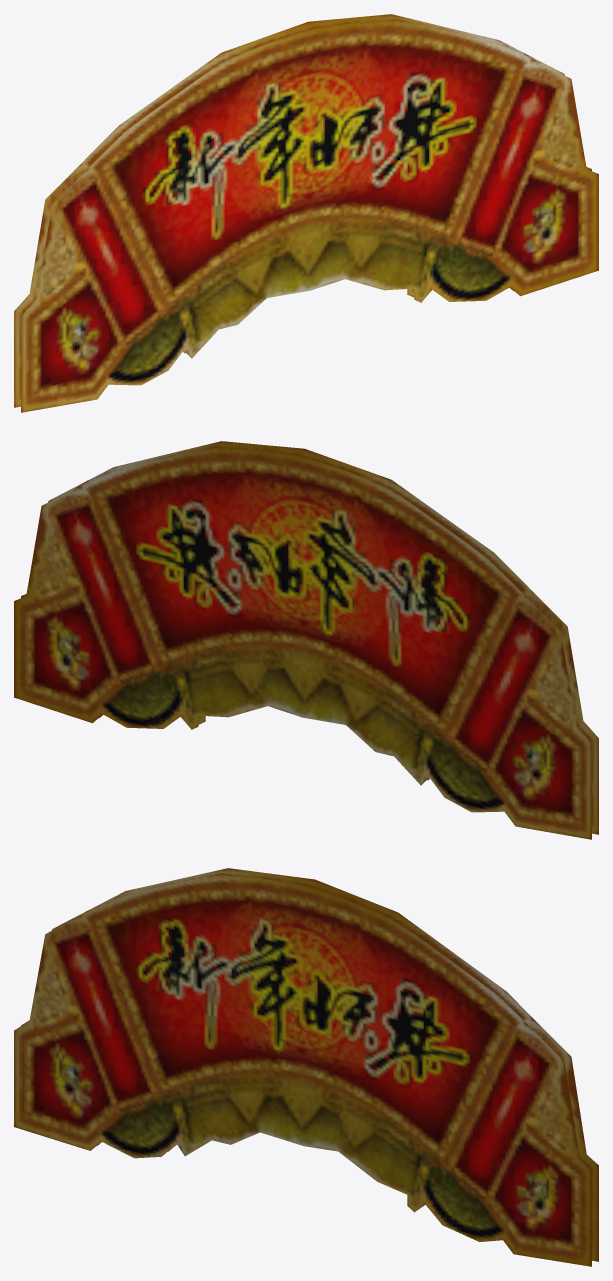
Rendered from furni_0200228.FBX.
3 renders of one model, top to bottom at view 1: azimuth 30°, elevation 25°; view 2: azimuth 150°, elevation 25°; view 3: azimuth 330°, elevation 25°, orthographic.
Visible parts, largest first — view 1: furni_0200228; view 2: furni_0200228; view 3: furni_0200228.
Part boxes in pixels (x1=…): furni_0200228: x1=14, y1=14, x2=598, y2=412; furni_0200228: x1=14, y1=441, x2=598, y2=839; furni_0200228: x1=14, y1=868, x2=598, y2=1266.
Size of the model in its own units: 148 by 78.1 by 3.04.
Materials: 1 (1 with a texture image).
